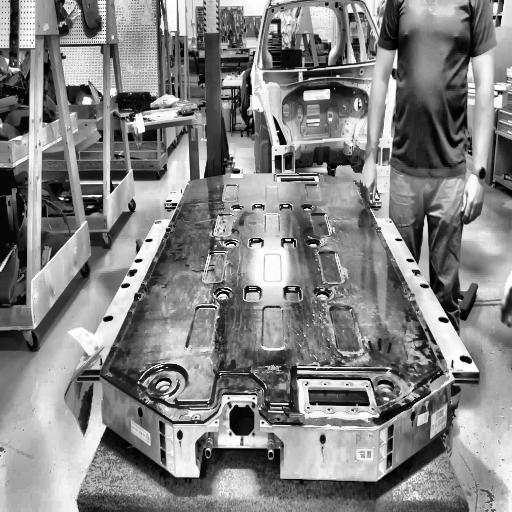b_casing: (65, 164, 483, 429)
